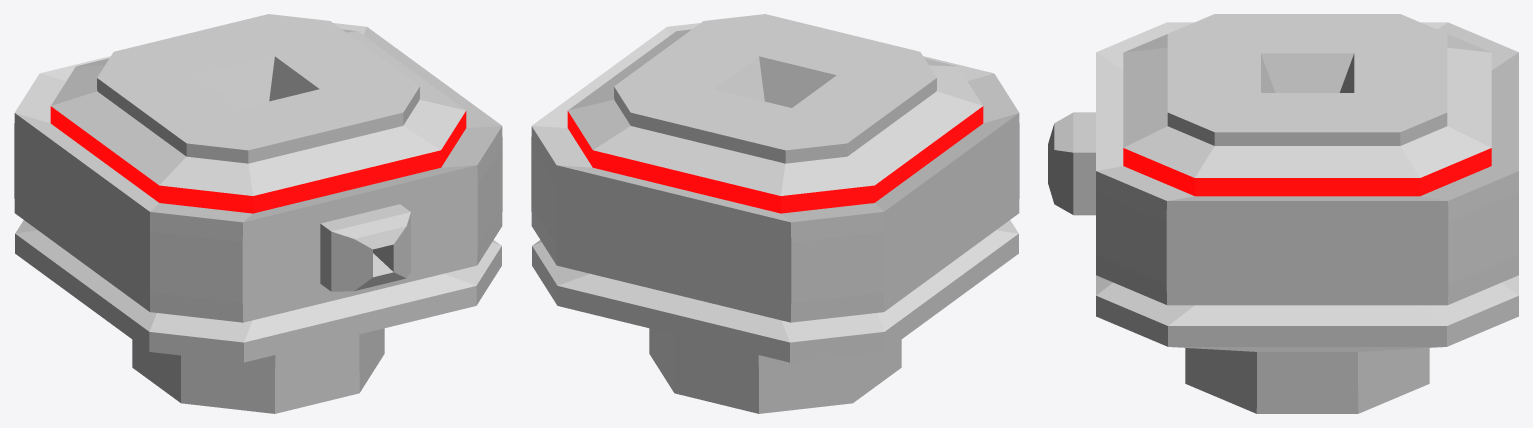
File: collector.glb
3 renders of one model, left to right at view 1: azimuth 30°, elevation 25°; view 2: azimuth 150°, elevation 25°; view 3: azimuth 270°, elevation 25°, orthographic. The views are drawn at different scales.
Visible parts, largest first — view 1: Collector; view 2: Collector; view 3: Collector.
Boxes of the visible parts, box(x1,y1,x2,y2) form: Collector: box(14, 14, 502, 413); Collector: box(531, 14, 1019, 413); Collector: box(1048, 14, 1518, 413).
Bounding box in the file's own units: 0.7028 × 0.5305 × 0.7827.
